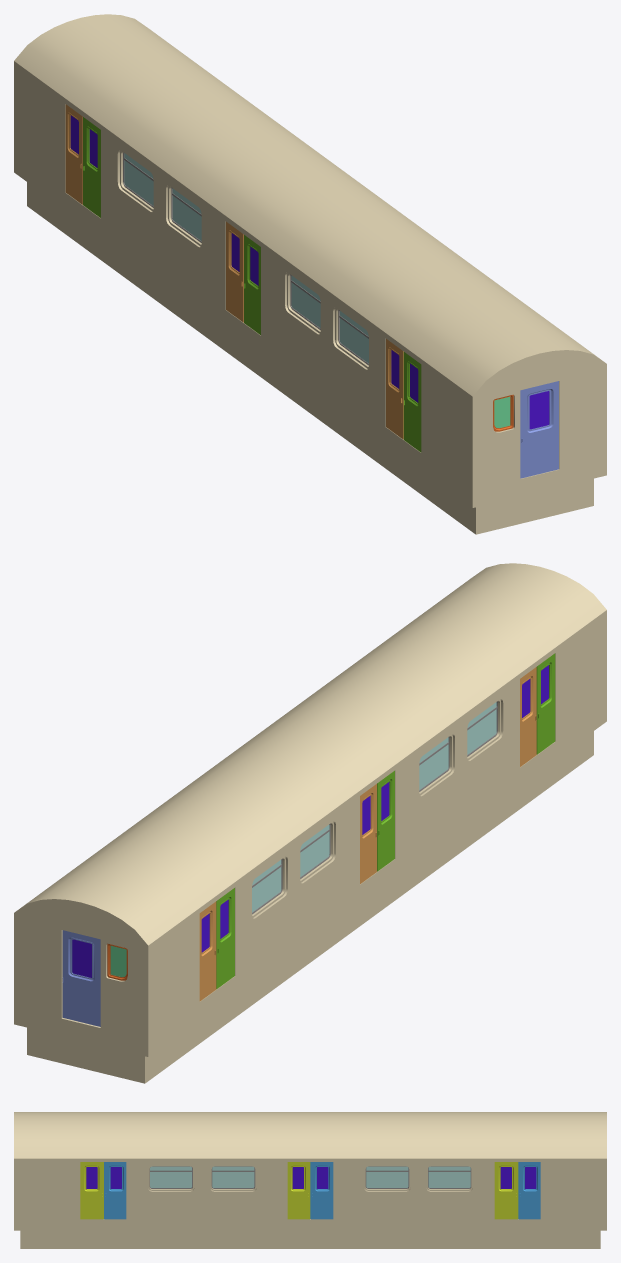
Rendered from NewTrain.fbx.
The picture shows the model from 3 angles, top to bottom: view 1: azimuth 30°, elevation 25°; view 2: azimuth 150°, elevation 25°; view 3: azimuth 270°, elevation 25°; orthographic projection. The views are drawn at different scales.
Visible parts, largest first — view 1: Train, Window, Door2.012, Door2.002, Door1, Door1.013, Door2.001, Door1.014, Door2; view 2: Train, Window, Door2.013, Door2.002, Door2.001, Door2, Door1.013, Door1, Door1.014; view 3: Train, Window, Door2.001, Door2.002, Door1, Door2, Door1.013, Door1.014.
Boxes of the visible parts, bbox=[...] form: Train: bbox=[14, 14, 606, 534]; Window: bbox=[123, 152, 368, 365]; Door2.012: bbox=[520, 381, 558, 478]; Door2.002: bbox=[403, 352, 421, 452]; Door1: bbox=[226, 221, 243, 322]; Door1.013: bbox=[65, 104, 82, 204]; Door2.001: bbox=[83, 117, 100, 217]; Door1.014: bbox=[386, 339, 403, 439]; Door2: bbox=[244, 235, 260, 334]; Train: bbox=[14, 563, 606, 1083]; Window: bbox=[252, 701, 497, 914]; Door2.013: bbox=[62, 930, 100, 1026]; Door2.002: bbox=[536, 653, 555, 754]; Door2.001: bbox=[216, 888, 234, 989]; Door2: bbox=[377, 770, 394, 871]; Door1.013: bbox=[199, 901, 216, 1001]; Door1: bbox=[360, 784, 376, 883]; Door1.014: bbox=[520, 667, 536, 766]; Train: bbox=[14, 1112, 606, 1248]; Window: bbox=[149, 1166, 471, 1188]; Door2.001: bbox=[494, 1162, 518, 1219]; Door2.002: bbox=[80, 1162, 103, 1219]; Door1: bbox=[310, 1162, 333, 1219]; Door2: bbox=[287, 1162, 310, 1219]; Door1.013: bbox=[518, 1162, 540, 1219]; Door1.014: bbox=[104, 1162, 126, 1219].
Size of the model in its own units: 3824 by 4626 by 22575.
